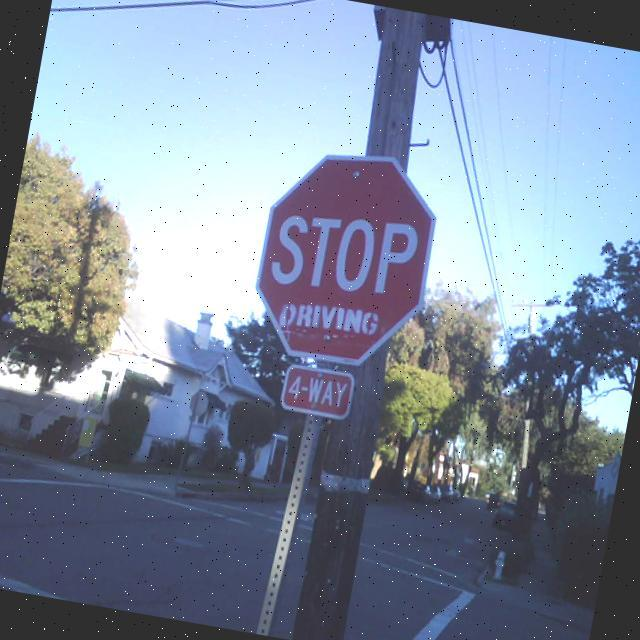fire_hydrant: (492, 549, 506, 579)
